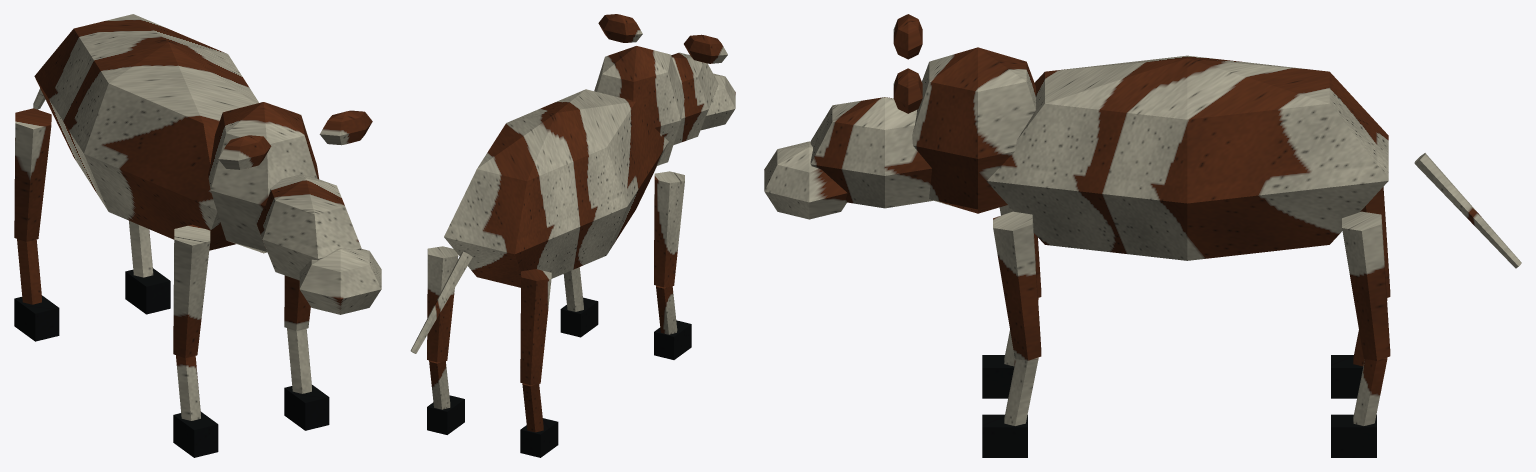
File: PROP-ECF0E30EE86E_lod2.glb
3 renders of one model, left to right at view 1: azimuth 30°, elevation 25°; view 2: azimuth 150°, elevation 25°; view 3: azimuth 270°, elevation 25°, orthographic. The views are drawn at different scales.
Parts seen in each view (by area): view 1: animal_torso.003, upper_leg.003, animal_neck.003, animal_head.003, hoof.003, lower_leg.003, muzzle.003, animal_ears.003; view 2: animal_torso.003, upper_leg.003, animal_neck.003, hoof.003, lower_leg.003, animal_head.003, animal_ears.003, muzzle.003, tail.003; view 3: animal_torso.003, animal_neck.003, upper_leg.003, animal_head.003, hoof.003, muzzle.003, lower_leg.003, animal_ears.003, tail.003.
Part boxes in pixels (x1,y1,x2,y2): animal_torso.003: (34, 14, 258, 250); upper_leg.003: (14, 108, 310, 358); animal_neck.003: (208, 102, 318, 253); animal_head.003: (255, 174, 361, 280); hoof.003: (14, 268, 329, 457); lower_leg.003: (17, 221, 311, 420); muzzle.003: (299, 248, 381, 314); animal_ears.003: (218, 110, 372, 169); animal_torso.003: (444, 89, 668, 287); upper_leg.003: (427, 171, 684, 384); animal_neck.003: (594, 46, 684, 165); hoof.003: (427, 297, 691, 457); lower_leg.003: (429, 267, 677, 432); animal_head.003: (671, 52, 718, 144); animal_ears.003: (598, 14, 727, 63); muzzle.003: (701, 73, 735, 130); tail.003: (410, 251, 472, 353); animal_torso.003: (986, 55, 1388, 260); animal_neck.003: (912, 47, 1035, 213); upper_leg.003: (993, 187, 1390, 360); animal_head.003: (810, 97, 932, 208); hoof.003: (982, 355, 1376, 457); muzzle.003: (764, 141, 847, 219); lower_leg.003: (1004, 298, 1387, 425); animal_ears.003: (893, 14, 922, 113); tail.003: (1414, 153, 1521, 268).
Size of the model in its own units: 0.7 by 1.36 by 2.47.
Materials: 2 (2 with a texture image).
